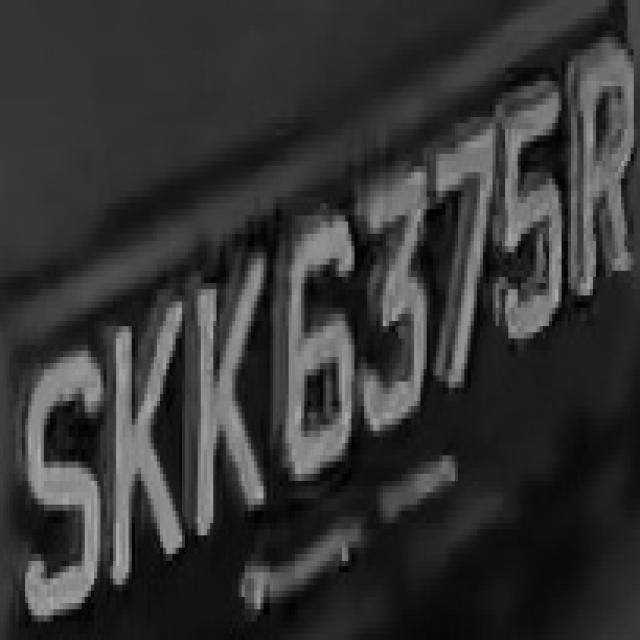3: (358, 136, 436, 456)
5: (492, 74, 568, 369)
6: (282, 191, 361, 498)
7: (417, 110, 499, 388)
K: (179, 258, 276, 560), (104, 271, 185, 591)
R: (564, 30, 640, 295)
S: (12, 326, 104, 628)
